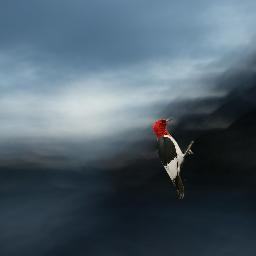Woodpecker: (152, 116, 194, 199)
